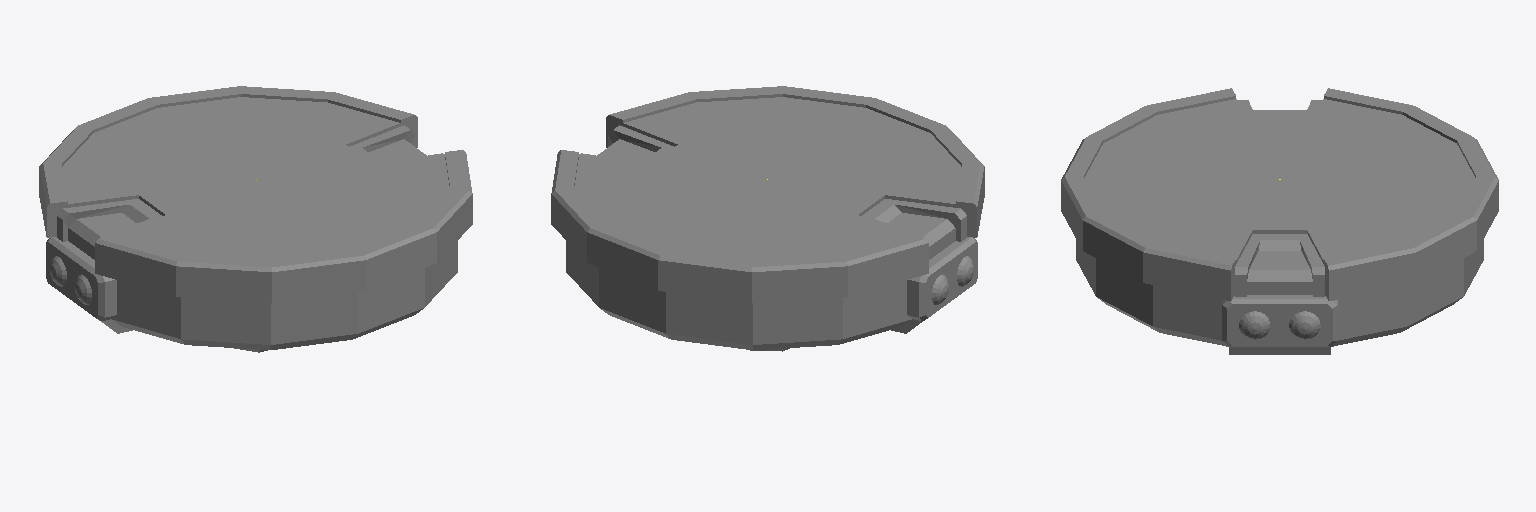
File: cpz_obj_floorA_3b_M.obj
The picture shows the model from 3 angles: view 1: azimuth 30°, elevation 25°; view 2: azimuth 150°, elevation 25°; view 3: azimuth 270°, elevation 25°; orthographic projection.
Parts seen in each view (by area): view 1: cpz_metal_tn1_footholdA_floor, ccp_metal_yy_yelow_Cmn_dpn, cpz_metal_tn1_footholdA_001, ccp_etc_yy_light01_IgnoL_d, cpz_etc_tn1_lamp_001; view 2: cpz_metal_tn1_footholdA_floor, ccp_metal_yy_yelow_Cmn_dpn, cpz_metal_tn1_footholdA_001, ccp_etc_yy_light01_IgnoL_d, cpz_etc_tn1_lamp_001; view 3: cpz_metal_tn1_footholdA_floor, ccp_metal_yy_yelow_Cmn_dpn, cpz_metal_tn1_footholdA_001, ccp_etc_yy_light01_IgnoL_d, cpz_etc_tn1_lamp_001.
Part boxes in pixels (left/top/right/bottom): cpz_metal_tn1_footholdA_floor: left=61, top=97, right=457, bottom=349; ccp_metal_yy_yelow_Cmn_dpn: left=39, top=86, right=472, bottom=302; cpz_metal_tn1_footholdA_001: left=46, top=125, right=444, bottom=333; ccp_etc_yy_light01_IgnoL_d: left=68, top=139, right=426, bottom=259; cpz_etc_tn1_lamp_001: left=50, top=256, right=91, bottom=304; cpz_metal_tn1_footholdA_floor: left=566, top=97, right=962, bottom=349; ccp_metal_yy_yelow_Cmn_dpn: left=551, top=86, right=984, bottom=302; cpz_metal_tn1_footholdA_001: left=579, top=125, right=977, bottom=333; ccp_etc_yy_light01_IgnoL_d: left=597, top=139, right=955, bottom=259; cpz_etc_tn1_lamp_001: left=932, top=256, right=973, bottom=304; cpz_metal_tn1_footholdA_floor: left=1076, top=99, right=1483, bottom=346; ccp_metal_yy_yelow_Cmn_dpn: left=1061, top=88, right=1498, bottom=300; cpz_metal_tn1_footholdA_001: left=1222, top=100, right=1337, bottom=354; ccp_etc_yy_light01_IgnoL_d: left=1247, top=110, right=1312, bottom=294; cpz_etc_tn1_lamp_001: left=1239, top=311, right=1320, bottom=339.
Size of the model in its own units: 109 by 43.12 by 108.